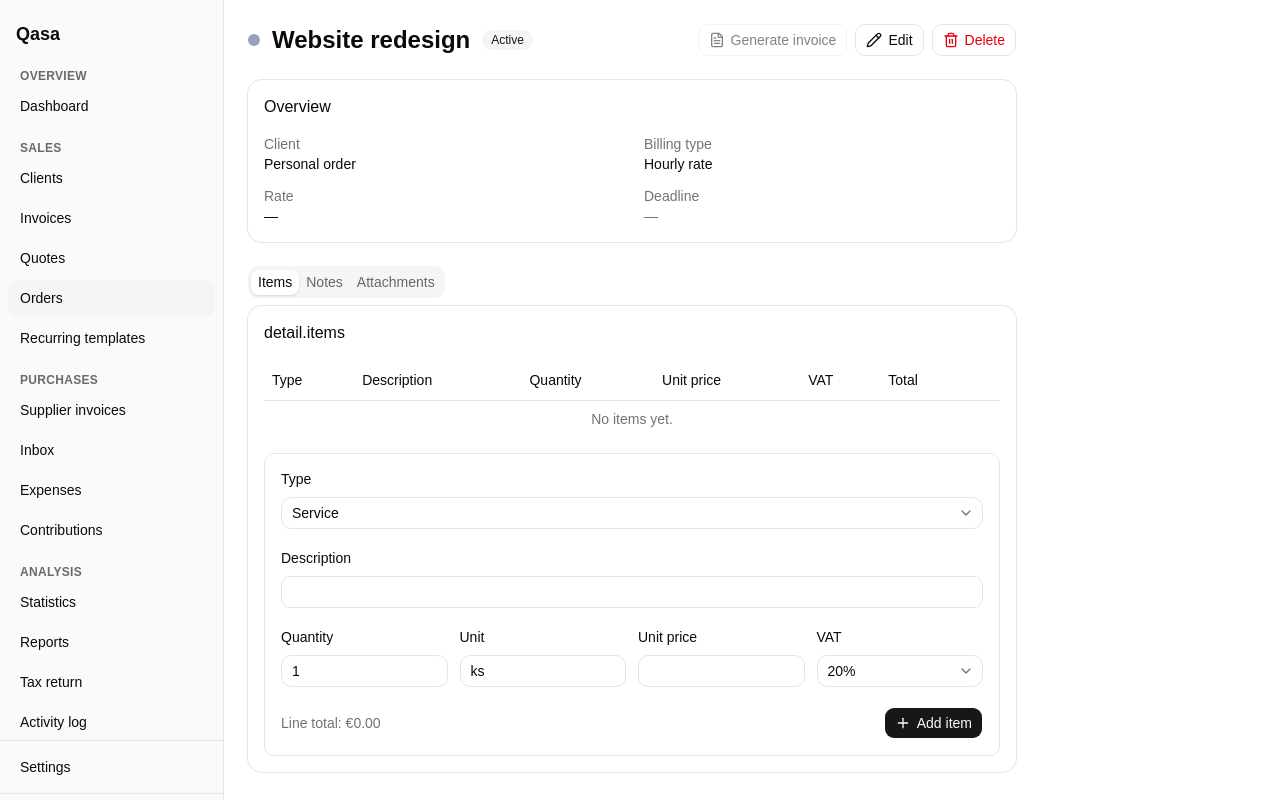
Test: order detail › lists attachments in the attachments tab
Step 1. Click the tab "Attachments" → (396, 282), box left=350, top=270, right=442, bottom=294
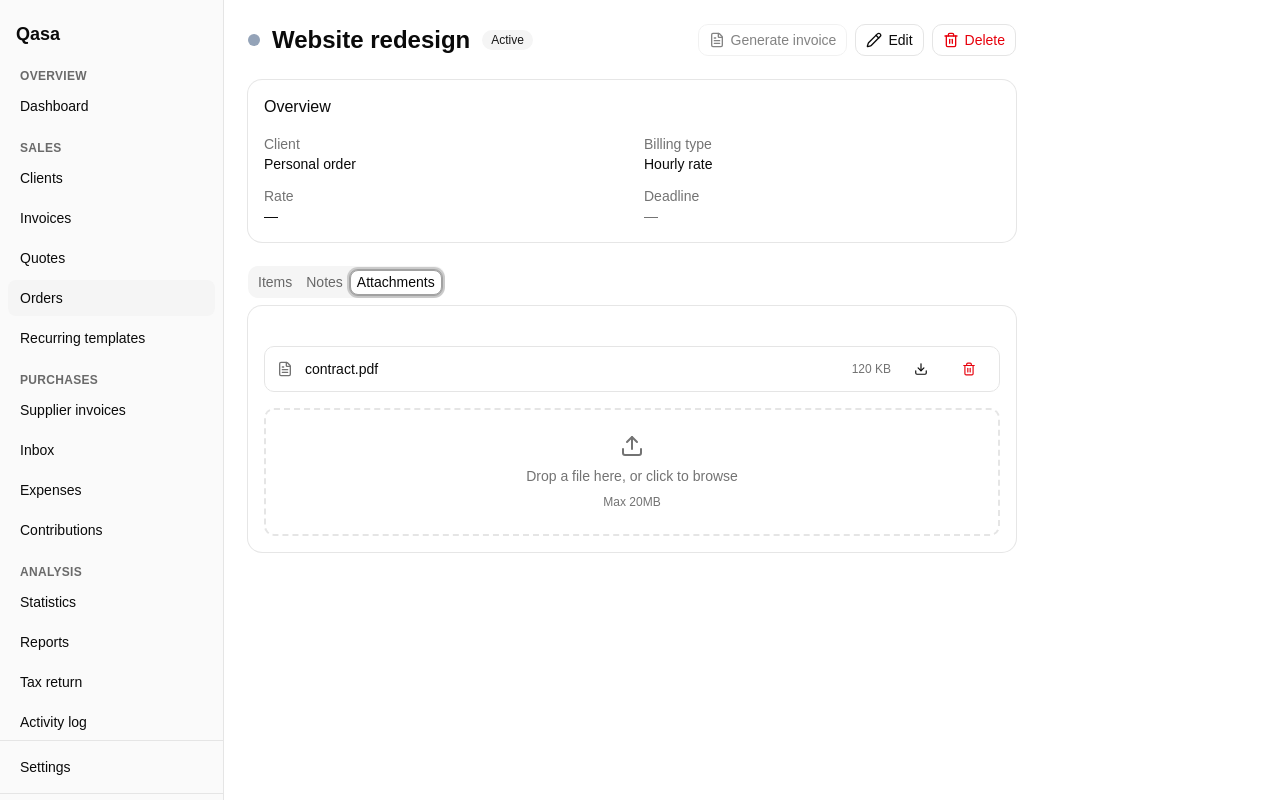
Result: the text "contract.pdf" is shown at left=305, top=361, right=378, bottom=377
